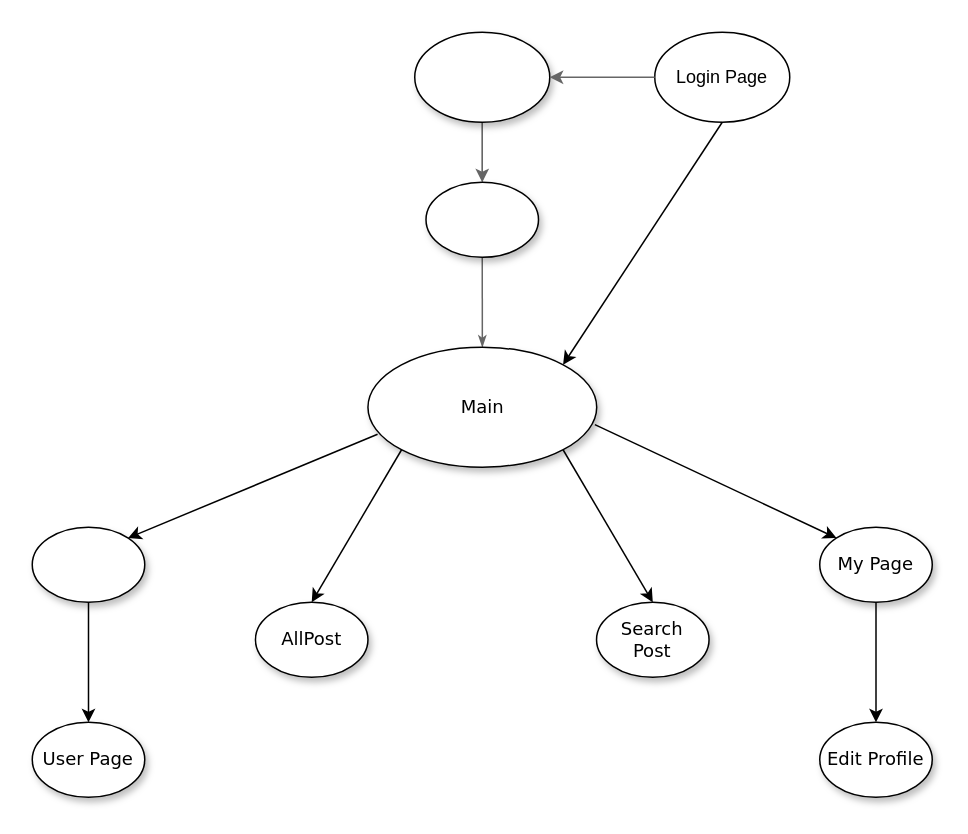
The diagram is 968 pixels wide and 834 high, and some of its shapes have lost their labels. Here are the shapes that lost their labels. From the top down, the centre of each, then its label:
At point (483, 79): "SignUp Page".
At point (483, 221): "Category Page".
At point (89, 566): "Search User".
